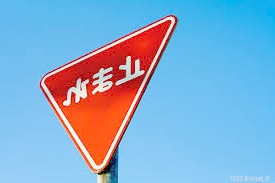Regulatory_sign_triangle: (37, 11, 180, 174)
